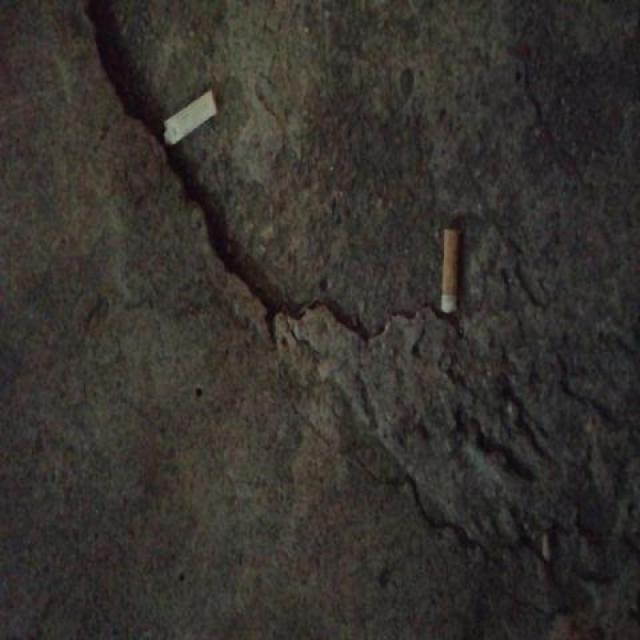non-organic waste: (159, 84, 221, 153), (435, 221, 465, 318)
